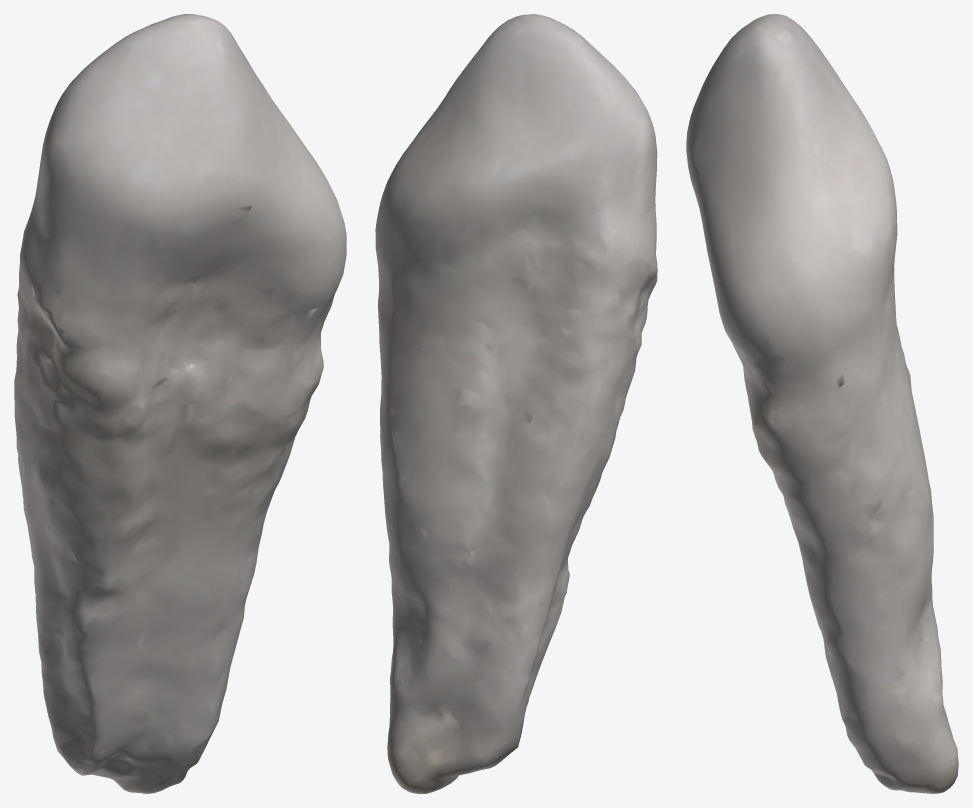
The picture shows the model from 3 angles, left to right: view 1: azimuth 30°, elevation 25°; view 2: azimuth 150°, elevation 25°; view 3: azimuth 270°, elevation 25°; orthographic projection. The views are drawn at different scales.
Parts seen in each view (by area): view 1: P2_li_oben_Katze.001; view 2: P2_li_oben_Katze.001; view 3: P2_li_oben_Katze.001.
Part boxes in pixels (x1,y1,x2,y2): P2_li_oben_Katze.001: (14, 14, 346, 793); P2_li_oben_Katze.001: (375, 14, 657, 793); P2_li_oben_Katze.001: (686, 14, 958, 793).
Bounding box in the file's own units: 236 × 631 × 208.
1 material, 1 textured.
